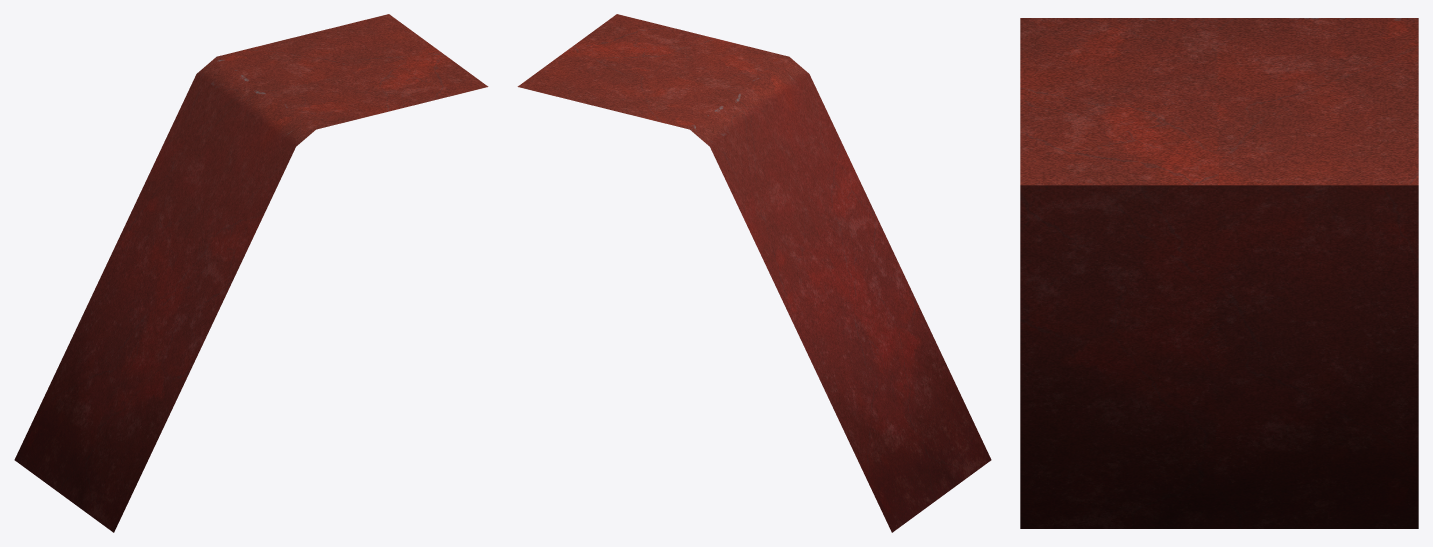
File: SM_Foundation_C_Straight.glb
The picture shows the model from 3 angles, left to right: view 1: azimuth 30°, elevation 25°; view 2: azimuth 150°, elevation 25°; view 3: azimuth 270°, elevation 25°; orthographic projection. The views are drawn at different scales.
Visible parts, largest first — view 1: SM_Foundation_C_Straight; view 2: SM_Foundation_C_Straight; view 3: SM_Foundation_C_Straight.
Part boxes in pixels (<box>): SM_Foundation_C_Straight: <box>14,14,488,532</box>; SM_Foundation_C_Straight: <box>517,14,991,532</box>; SM_Foundation_C_Straight: <box>1020,18,1418,528</box>.
Bounding box in the file's own units: 4.34 × 3.93 × 2.
Materials: 1 (1 with a texture image).
